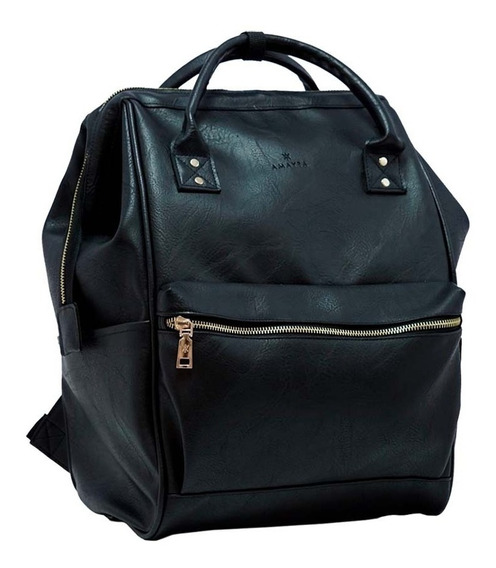cartera: (35, 28, 472, 542)
